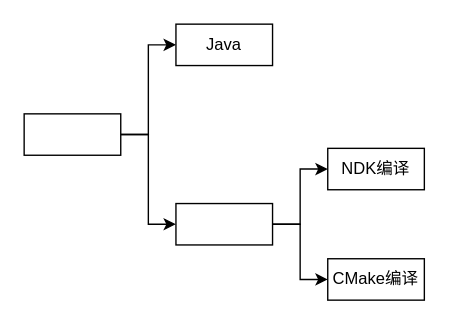
The diagram is 449 pixels wide and 324 high, and some of its shapes have lost their labels. The shapes that lost their labels are listed below. From the top down, each one's centre as x and y in pixels, then its label:
point (72, 133): gradle
point (224, 223): native
